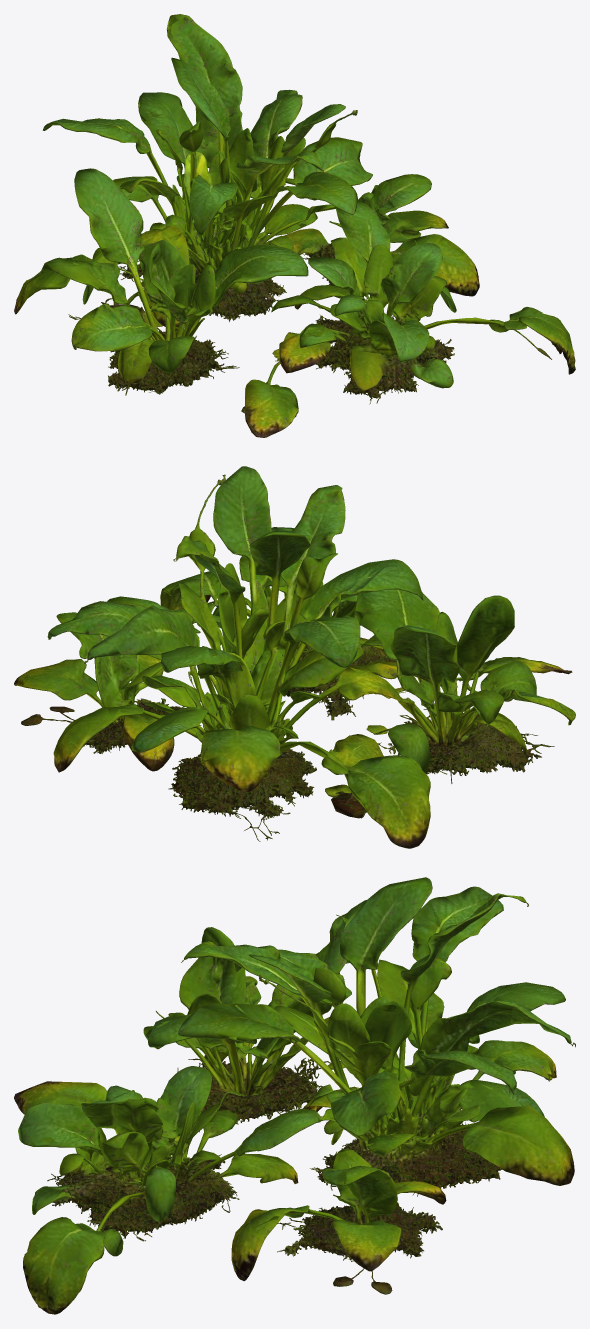
Rendered from dock-leaf-clump.glb.
The picture shows the model from 3 angles, top to bottom: view 1: azimuth 30°, elevation 25°; view 2: azimuth 150°, elevation 25°; view 3: azimuth 270°, elevation 25°; orthographic projection. The views are drawn at different scales.
Size of the model in its own units: 1.9 by 1.11 by 1.82.
1 material, 1 textured.
